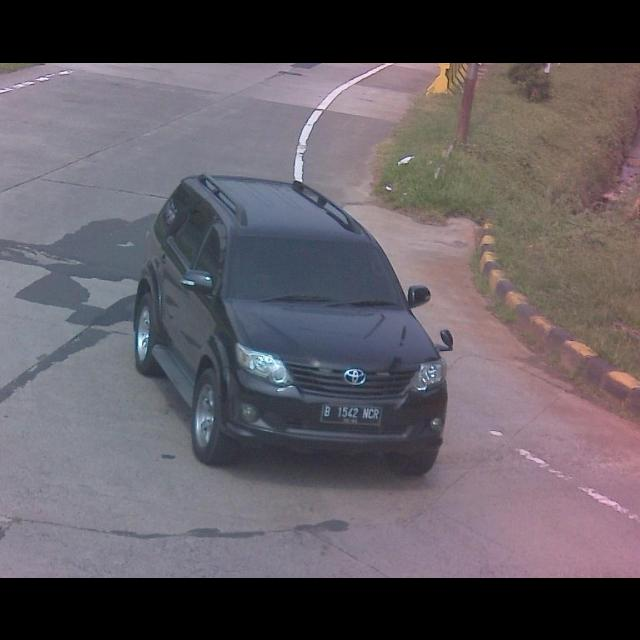plate: (320, 401, 384, 427)
